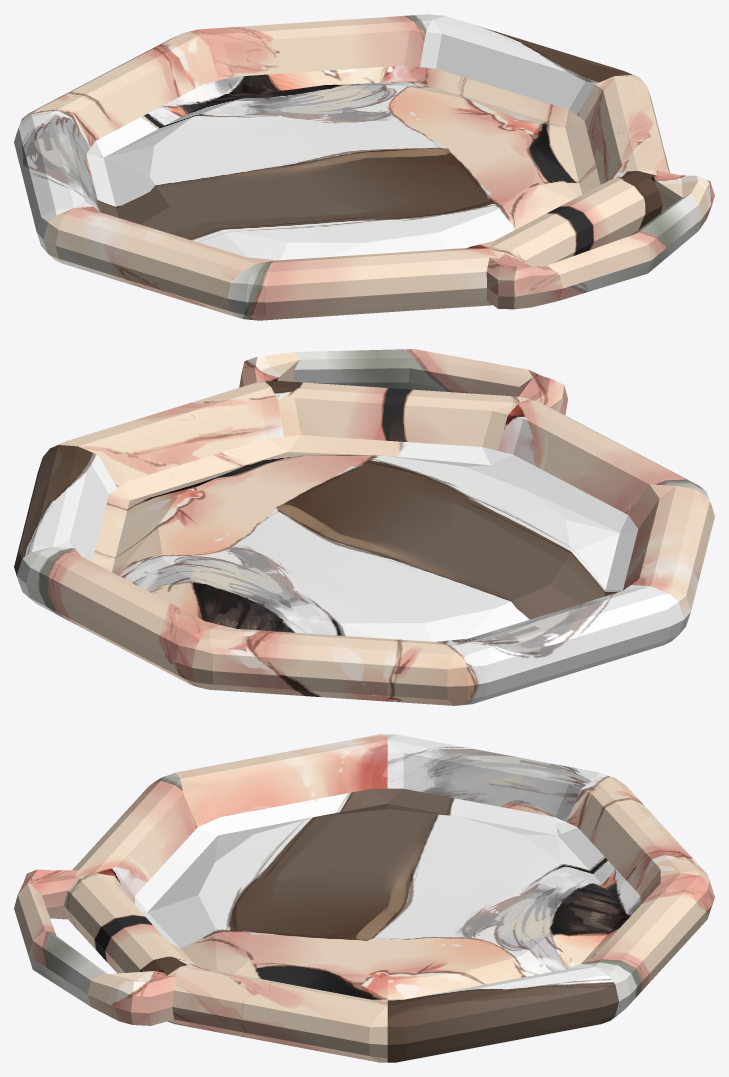
Rendered from kaarshouderNonMani.fbx.
The picture shows the model from 3 angles, top to bottom: view 1: azimuth 30°, elevation 25°; view 2: azimuth 150°, elevation 25°; view 3: azimuth 270°, elevation 25°; orthographic projection. The views are drawn at different scales.
Parts seen in each view (by area): view 1: Cylinder; view 2: Cylinder; view 3: Cylinder.
Part boxes in pixels (box(x1,y1,x2,y2)): Cylinder: box(14, 14, 714, 320); Cylinder: box(14, 349, 714, 705); Cylinder: box(14, 734, 714, 1062).
Bounding box in the file's own units: 15 × 1.33 × 15.
